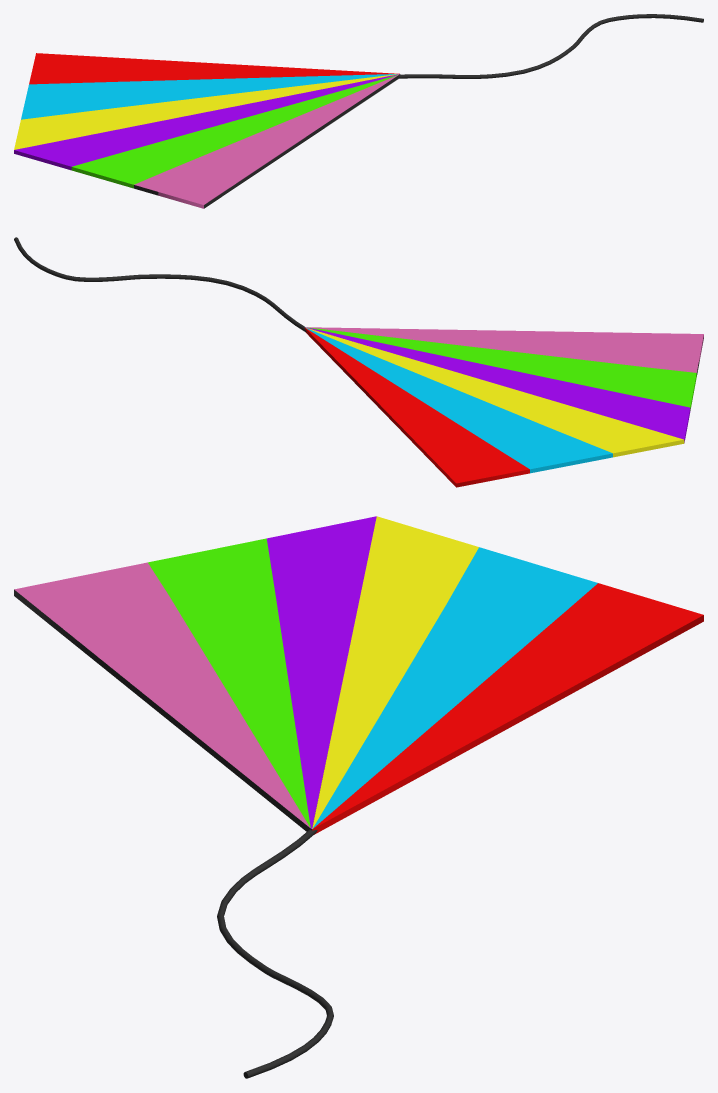
File: 8Qq-NaPoBt6.glb
The picture shows the model from 3 angles, top to bottom: view 1: azimuth 30°, elevation 25°; view 2: azimuth 150°, elevation 25°; view 3: azimuth 270°, elevation 25°; orthographic projection. The views are drawn at different scales.
Visible parts, largest first — view 1: Box002, Line003; view 2: Box002, Line003; view 3: Box002, Line003.
Boxes of the visible parts, x1=… form: Box002: x1=14, y1=53, x2=399, y2=208; Line003: x1=134, y1=14, x2=703, y2=208; Box002: x1=304, y1=327, x2=703, y2=487; Line003: x1=14, y1=237, x2=699, y2=376; Box002: x1=14, y1=516, x2=703, y2=834; Line003: x1=14, y1=589, x2=333, y2=1078.
Bounding box in the file's own units: 162 × 1.01 × 84.99.
